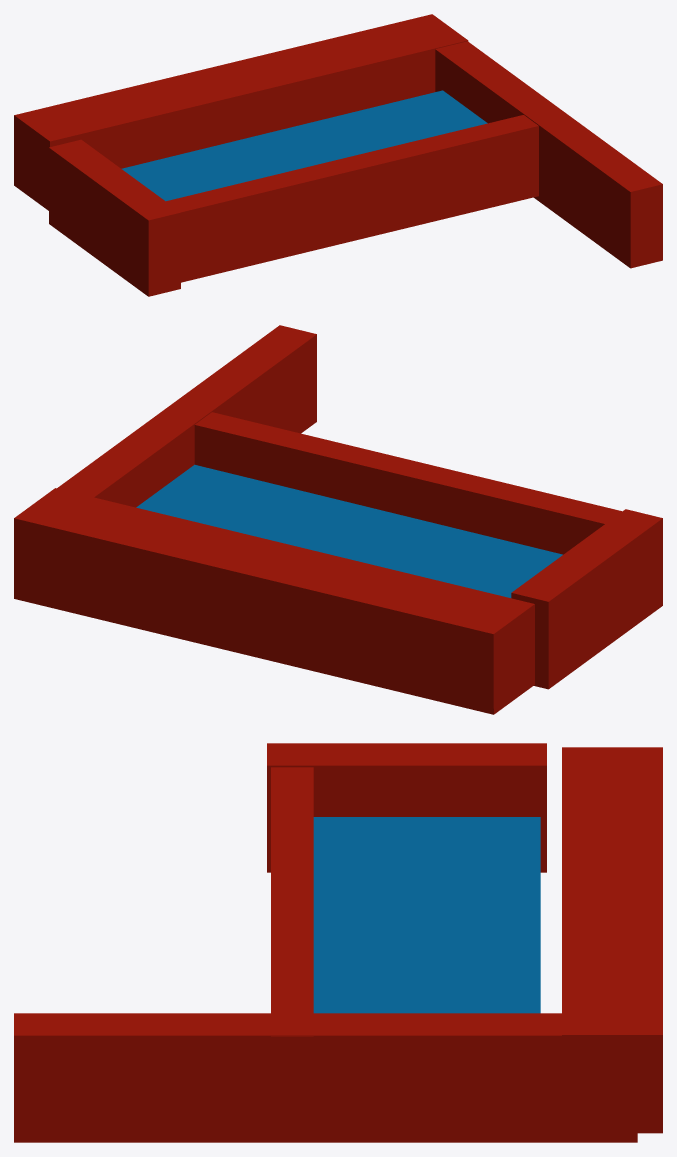
The model's file is board2.obj.
3 views of the same model, one above another, from view 1: azimuth 30°, elevation 25°; view 2: azimuth 150°, elevation 25°; view 3: azimuth 270°, elevation 25° (orthographic). The views are drawn at different scales.
Visible parts, largest first — view 1: Cube.004_Cube.006; view 2: Cube.004_Cube.006; view 3: Cube.004_Cube.006.
Boxes of the visible parts, left/top/right/bottom form: Cube.004_Cube.006: left=14, top=14, right=662, bottom=296; Cube.004_Cube.006: left=14, top=325, right=662, bottom=714; Cube.004_Cube.006: left=14, top=743, right=662, bottom=1142.
Bounding box in the file's own units: 4.23 × 0.7426 × 3.99.
